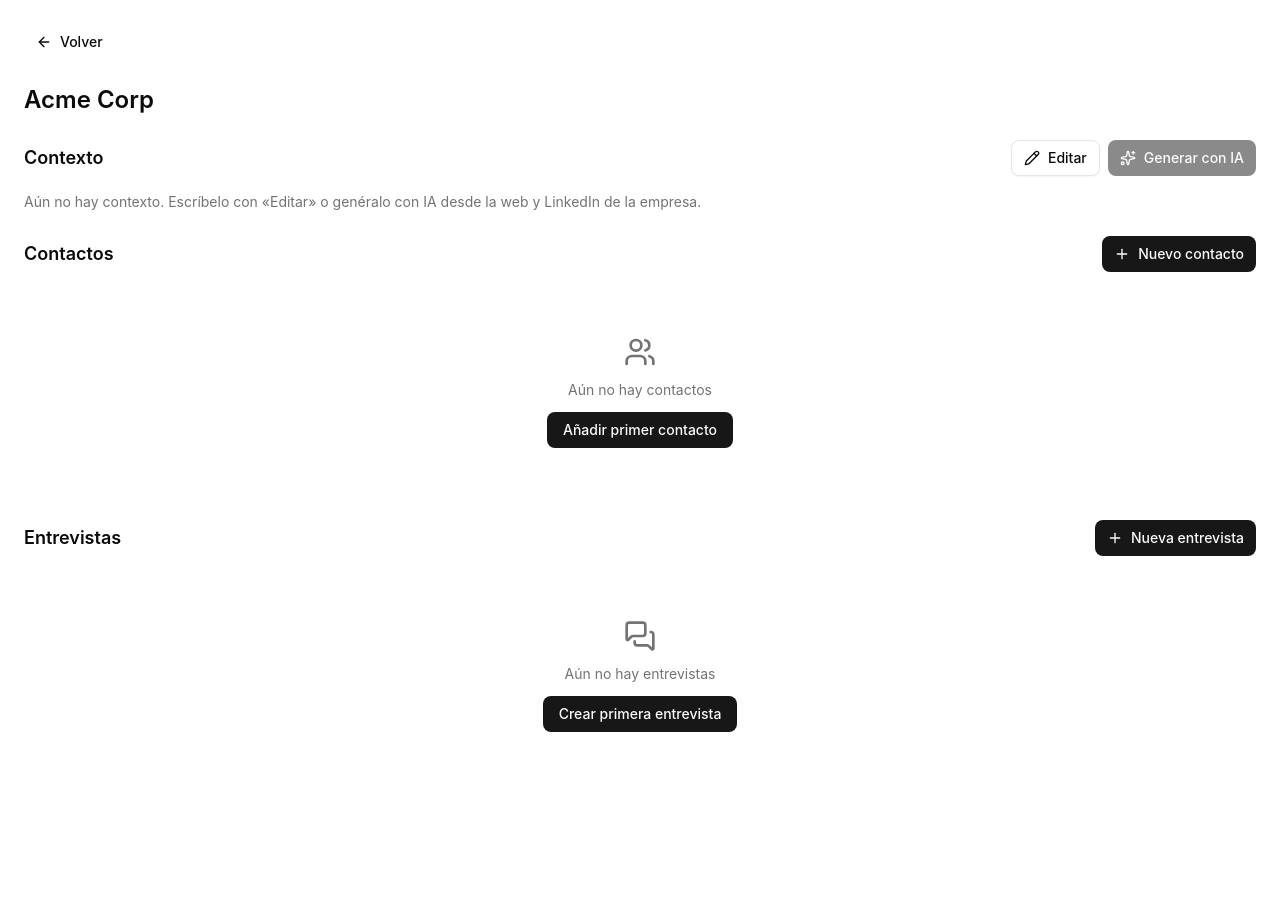
Scenario: CompanyDetailPage (entrevistas) › creating an interview › creates on Enter mapping the untouched selects to null refs
The width and height of the screenshot is (1280, 900).
Click the button "Nueva entrevista" at (1176, 538), box [1095,520,1256,556]
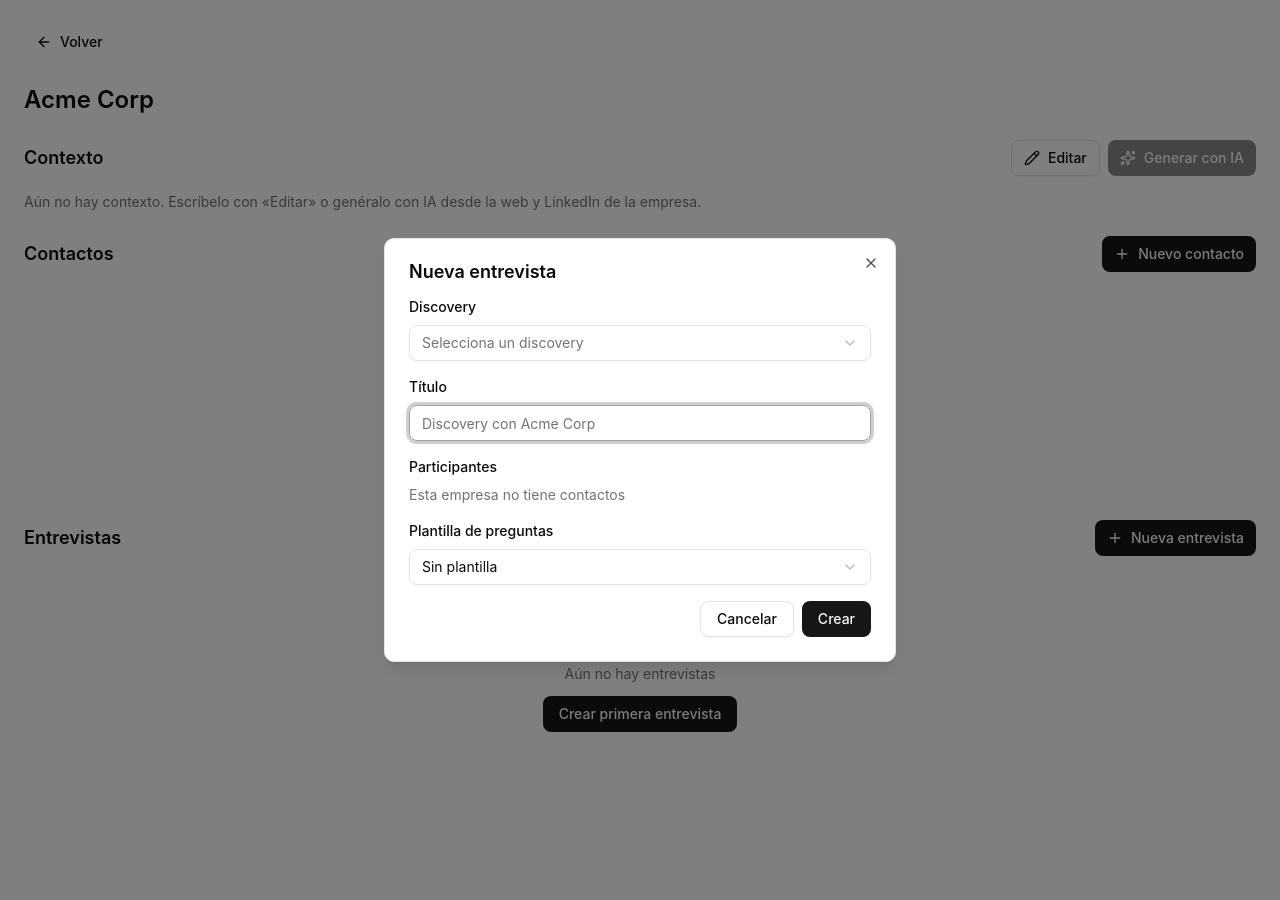
Expected: the dialog is shown, [384,238,896,662]
Click the dropdown labelled "discovery" at (503, 342), box [409,325,871,361]
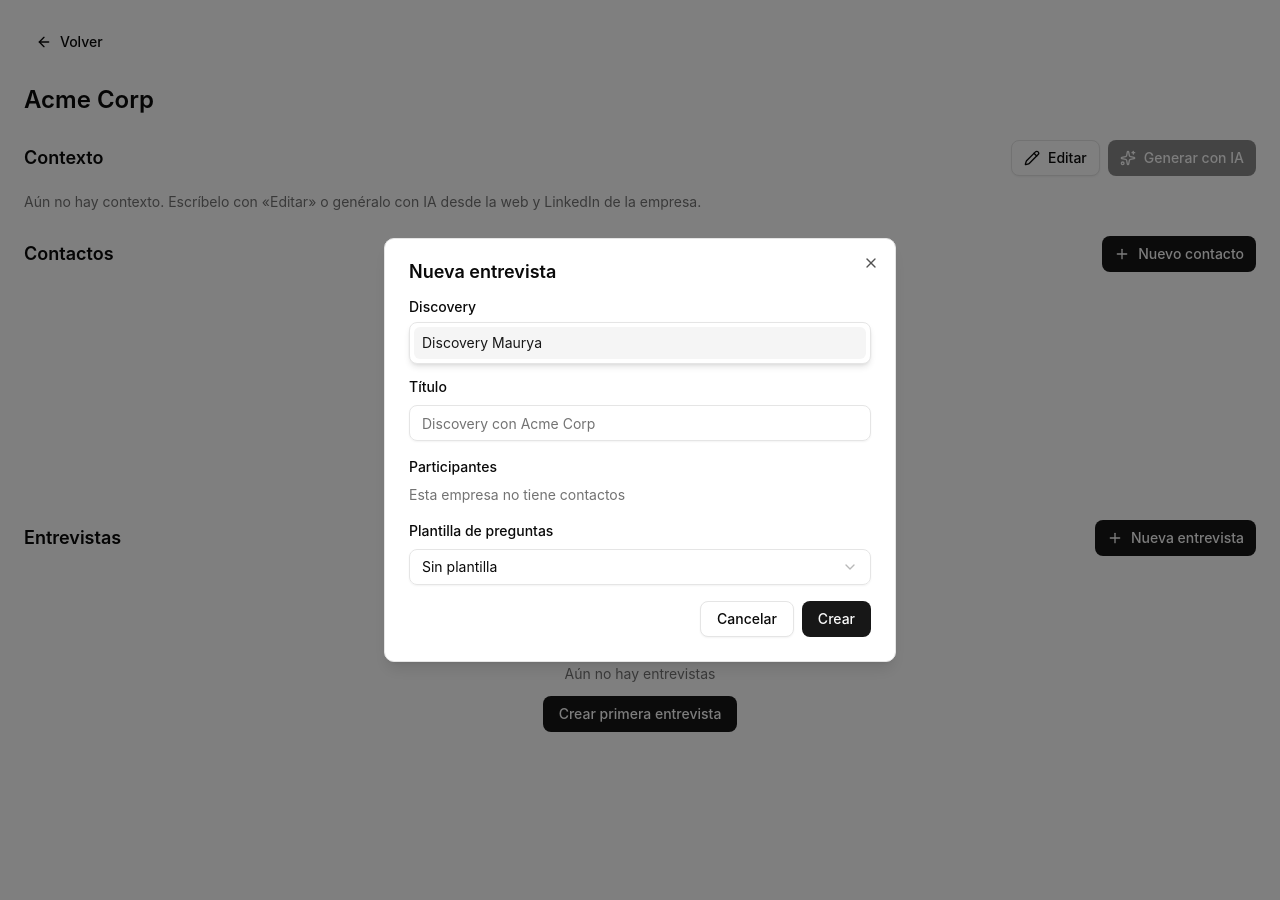
Click the option "Discovery Maurya" at (482, 342), box [414,327,866,359]
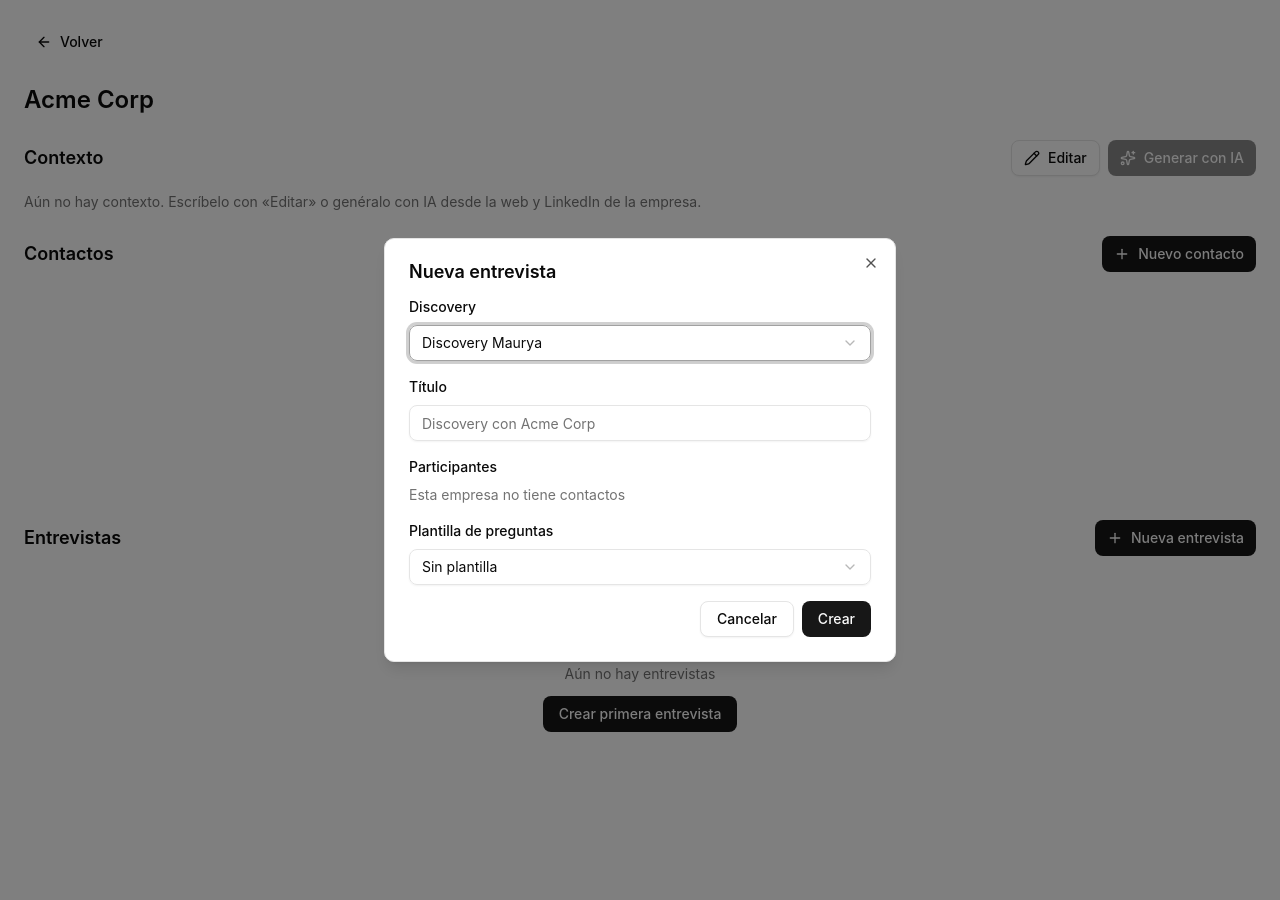
Type "Sin referencias" into the field labelled "Título" at (640, 423), box [409,405,871,441]
Then press Enter
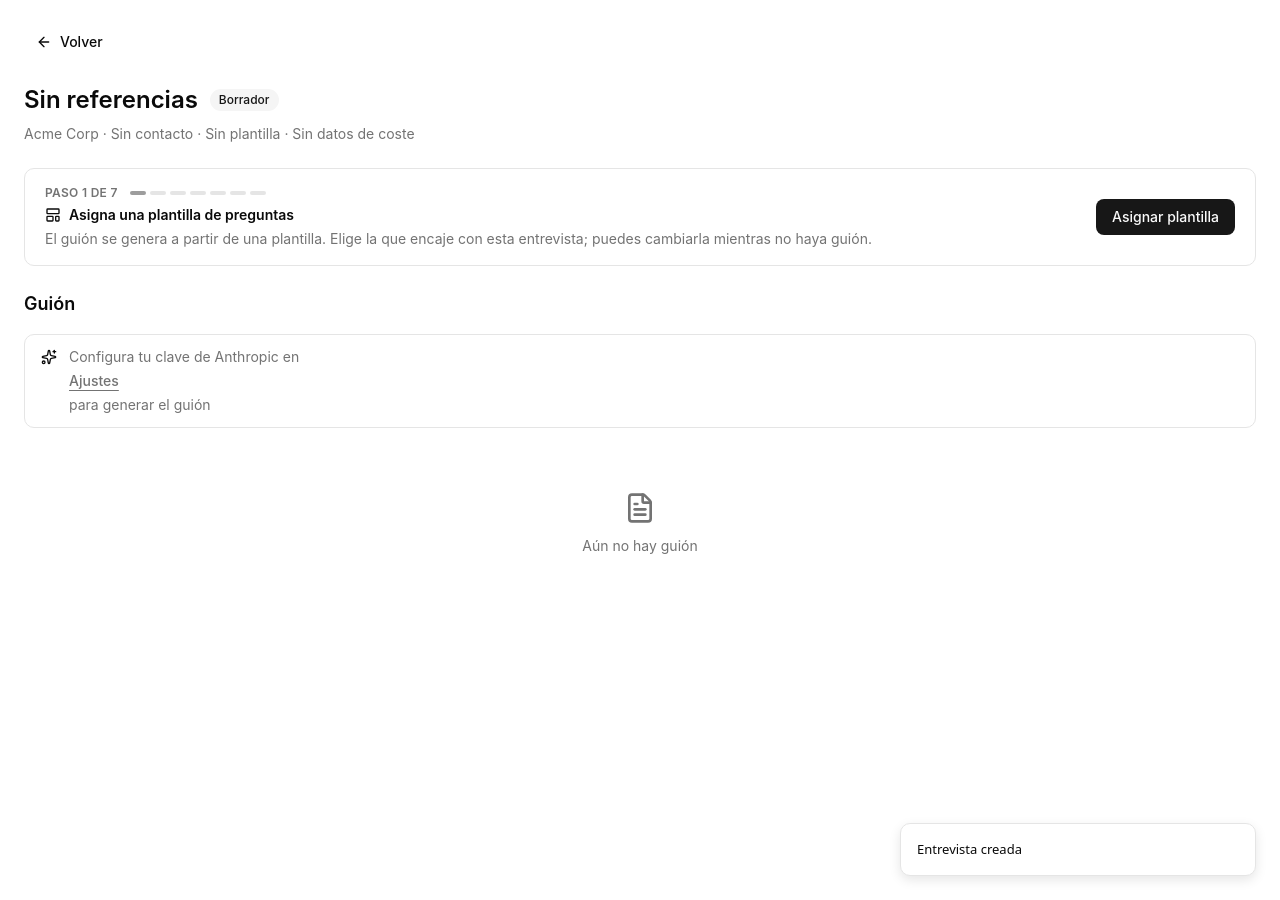
Expected: the dialog is gone
